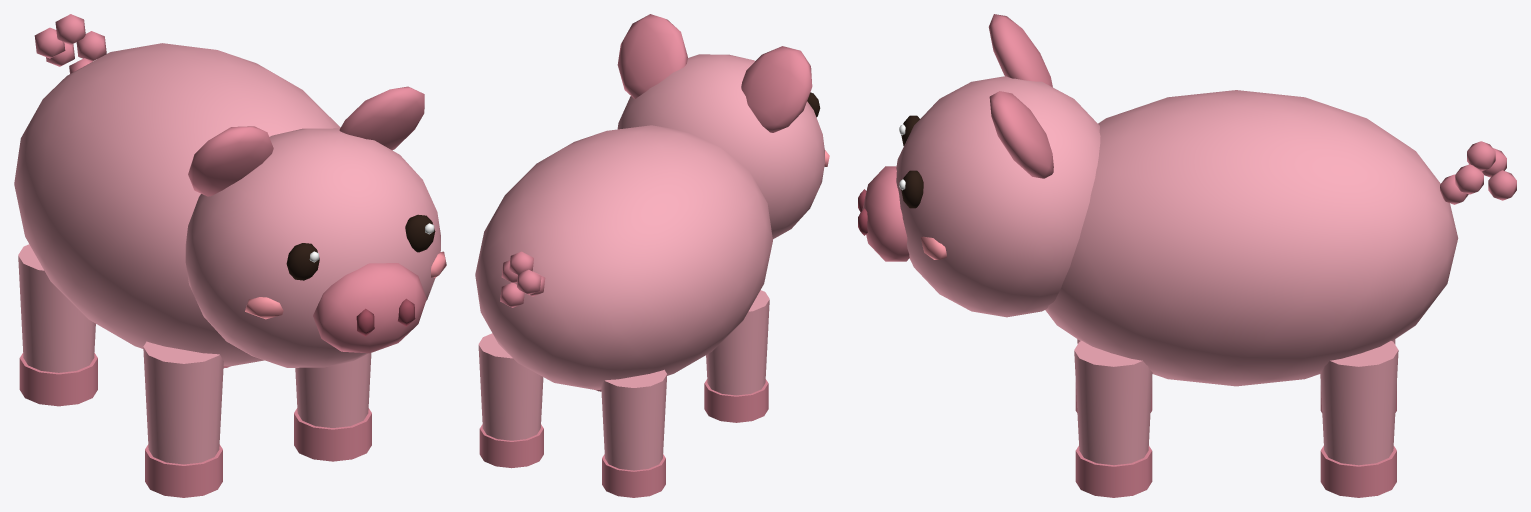
Rendered from pig.glb.
The picture shows the model from 3 angles, left to right: view 1: azimuth 30°, elevation 25°; view 2: azimuth 150°, elevation 25°; view 3: azimuth 270°, elevation 25°; orthographic projection. The views are drawn at different scales.
Visible parts, largest first — view 1: Pig_Head, Pig_Body, Pig_Leg_FL, Pig_Leg_BL, Pig_Leg_FR, Pig_Tail; view 2: Pig_Body, Pig_Head, Pig_Leg_BL, Pig_Leg_BR, Pig_Leg_FL, Pig_Tail; view 3: Pig_Body, Pig_Head, Pig_Leg_FR, Pig_Leg_BR, Pig_Tail.
Part boxes in pixels (x1,y1,x2,y2): Pig_Head: (185, 86, 446, 367); Pig_Body: (14, 43, 340, 366); Pig_Leg_FL: (143, 341, 223, 497); Pig_Leg_BL: (18, 244, 97, 406); Pig_Leg_FR: (294, 353, 371, 461); Pig_Tail: (34, 14, 106, 73); Pig_Body: (475, 125, 772, 390); Pig_Head: (617, 14, 829, 239); Pig_Leg_BL: (601, 369, 667, 497); Pig_Leg_BR: (478, 333, 543, 468); Pig_Leg_FL: (704, 290, 769, 422); Pig_Tail: (500, 251, 545, 307); Pig_Body: (1045, 90, 1458, 386); Pig_Head: (858, 14, 1100, 317); Pig_Leg_FR: (1074, 340, 1152, 497); Pig_Leg_BR: (1320, 341, 1398, 497); Pig_Tail: (1440, 141, 1516, 204).
Bounding box in the file's own units: 0.42 × 0.5626 × 0.8612.
